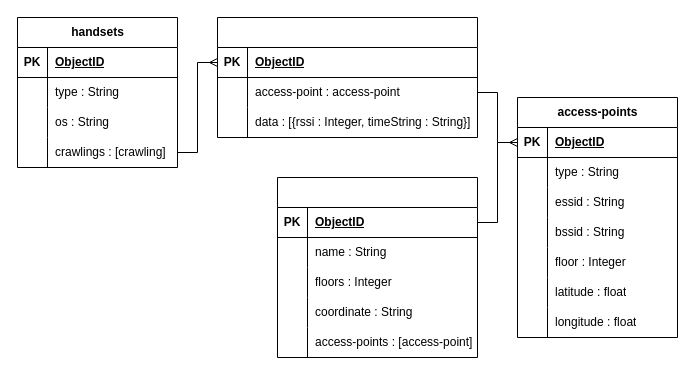
This 695x375 diagram has some shape labels left out. Each missing label, with the box of its shape:
buildings: (276, 176, 478, 358)
crawlings: (216, 16, 478, 138)
